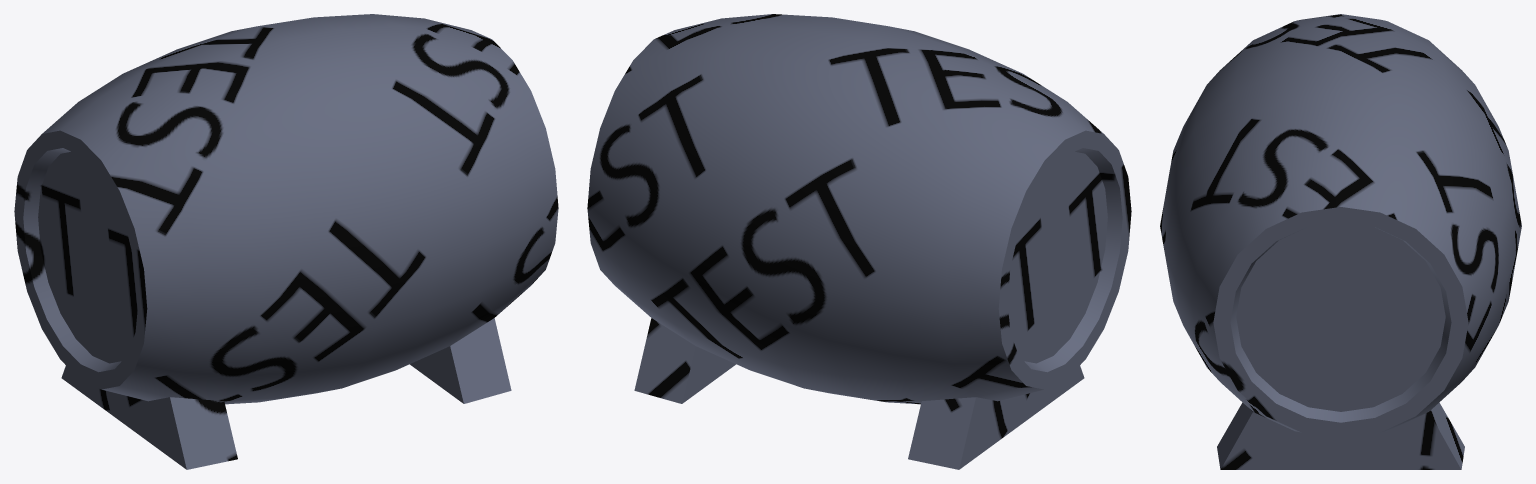
File: barrel_0001.fbx
3 views of the same model, side by side, from view 1: azimuth 30°, elevation 25°; view 2: azimuth 150°, elevation 25°; view 3: azimuth 270°, elevation 25° (orthographic). The views are drawn at different scales.
Visible parts, largest first — view 1: barrel_body_geo, barrel_stand_geo; view 2: barrel_body_geo, barrel_stand_geo; view 3: barrel_body_geo, barrel_stand_geo.
Part boxes in pixels (x1=…): barrel_body_geo: x1=14, y1=14, x2=558, y2=404; barrel_stand_geo: x1=61, y1=318, x2=511, y2=469; barrel_body_geo: x1=587, y1=14, x2=1131, y2=404; barrel_stand_geo: x1=634, y1=318, x2=1084, y2=469; barrel_body_geo: x1=1160, y1=14, x2=1521, y2=438; barrel_stand_geo: x1=1217, y1=402, x2=1464, y2=469.
Size of the model in its own units: 36.31 by 29.12 by 28.8.
Materials: 1 (1 with a texture image).
